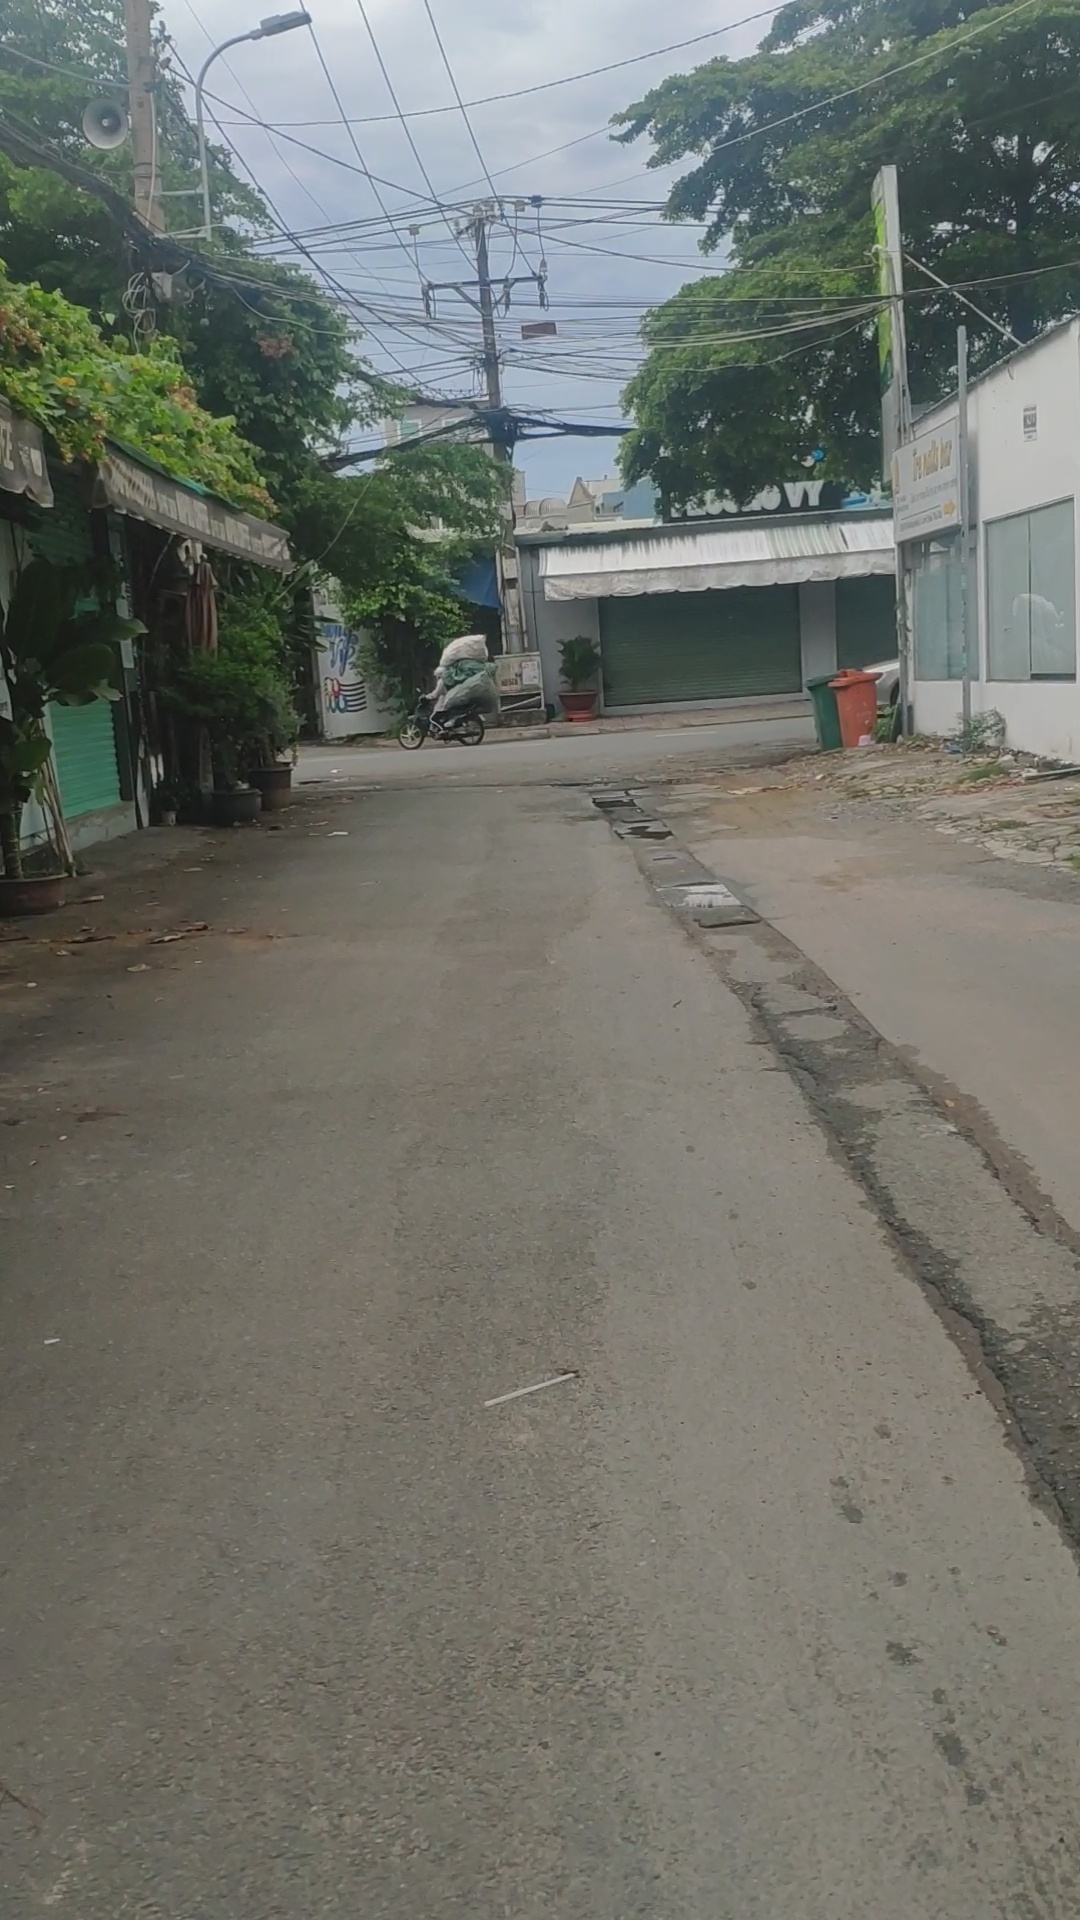hole: (653, 876, 746, 914), (609, 816, 680, 845), (588, 789, 647, 814)
